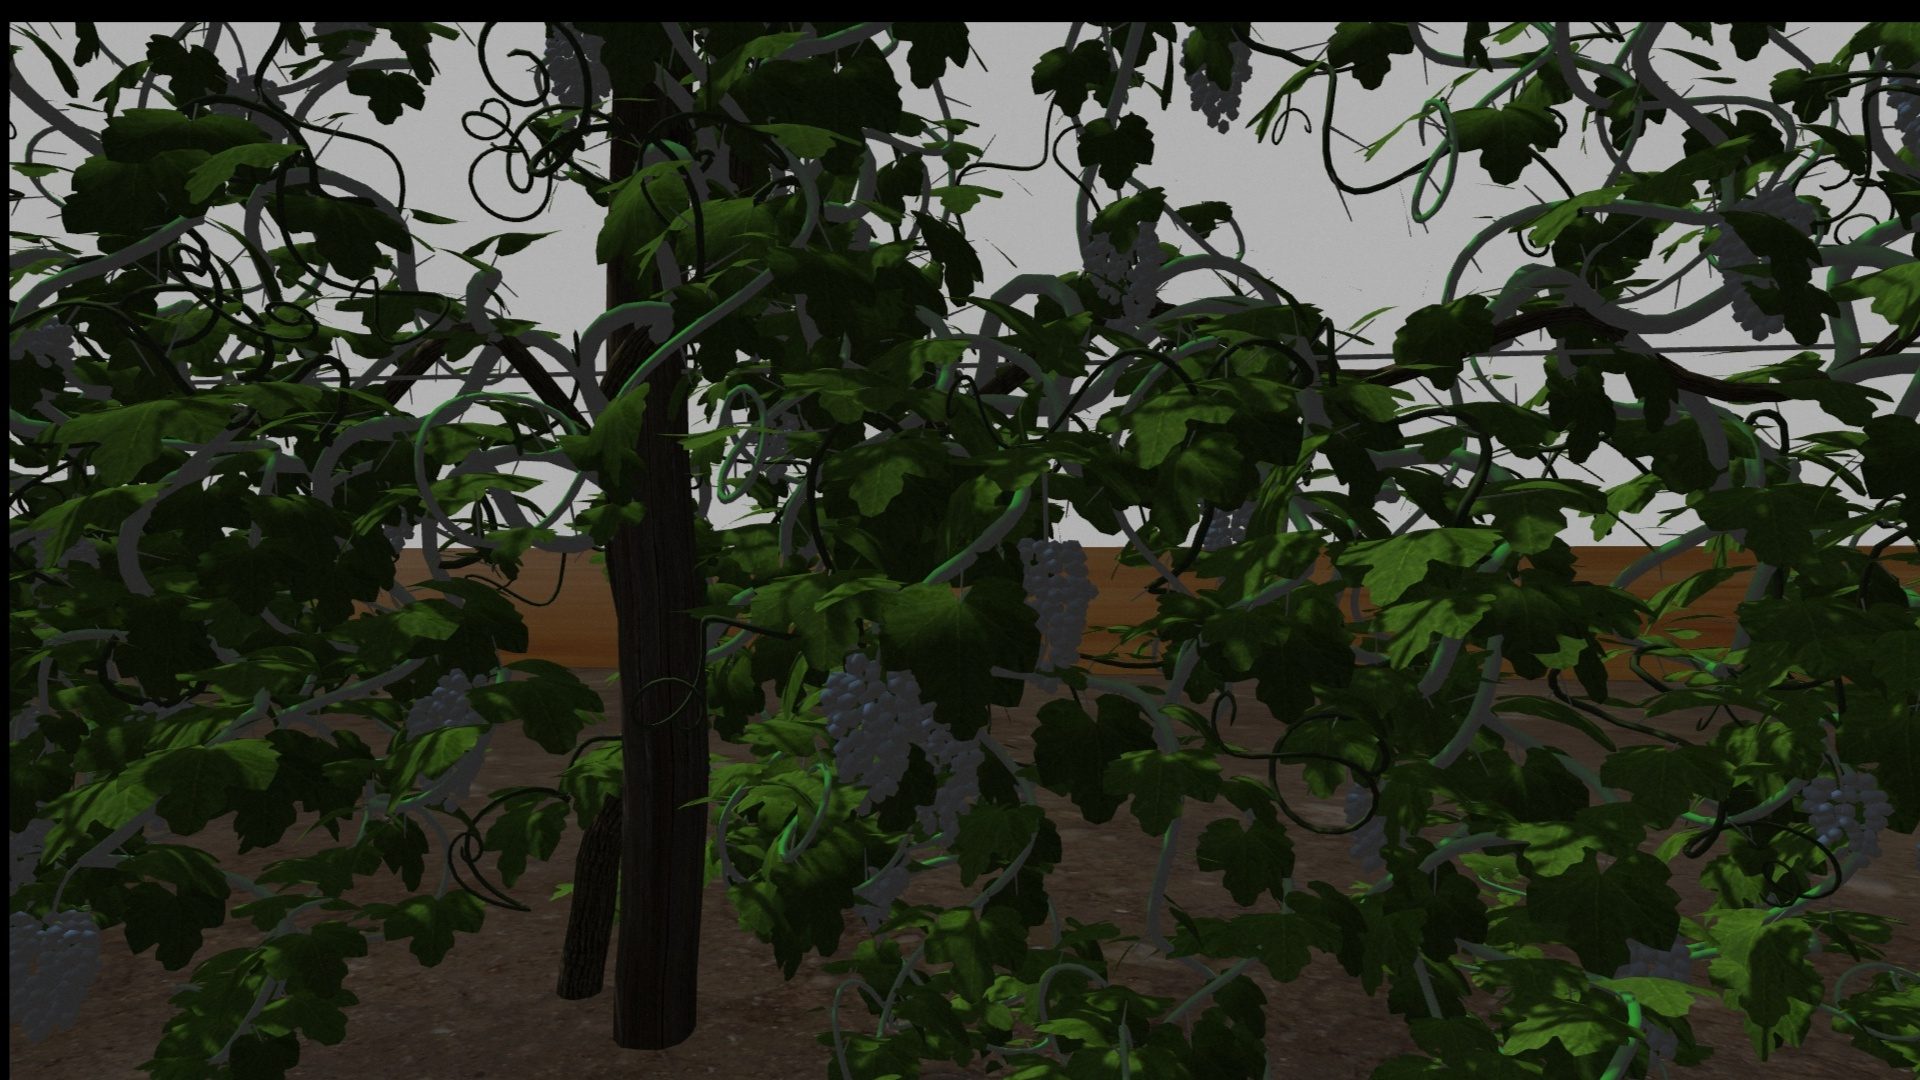grape: (818, 651, 919, 806), (1716, 187, 1813, 342), (401, 669, 491, 810), (1018, 535, 1101, 670), (911, 703, 982, 843), (16, 913, 105, 1022), (1081, 215, 1168, 318), (1808, 765, 1890, 872), (1185, 32, 1258, 132), (541, 32, 613, 121)
